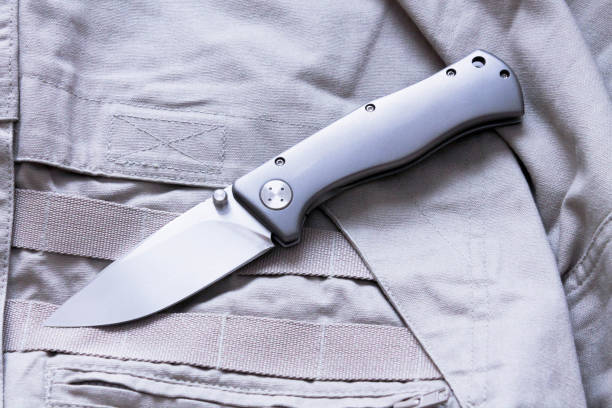knife: (39, 47, 526, 329)
